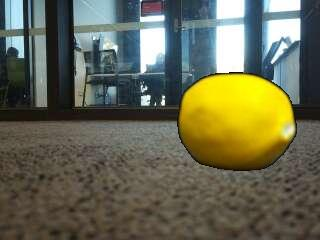lemon: (179, 75, 296, 170)
